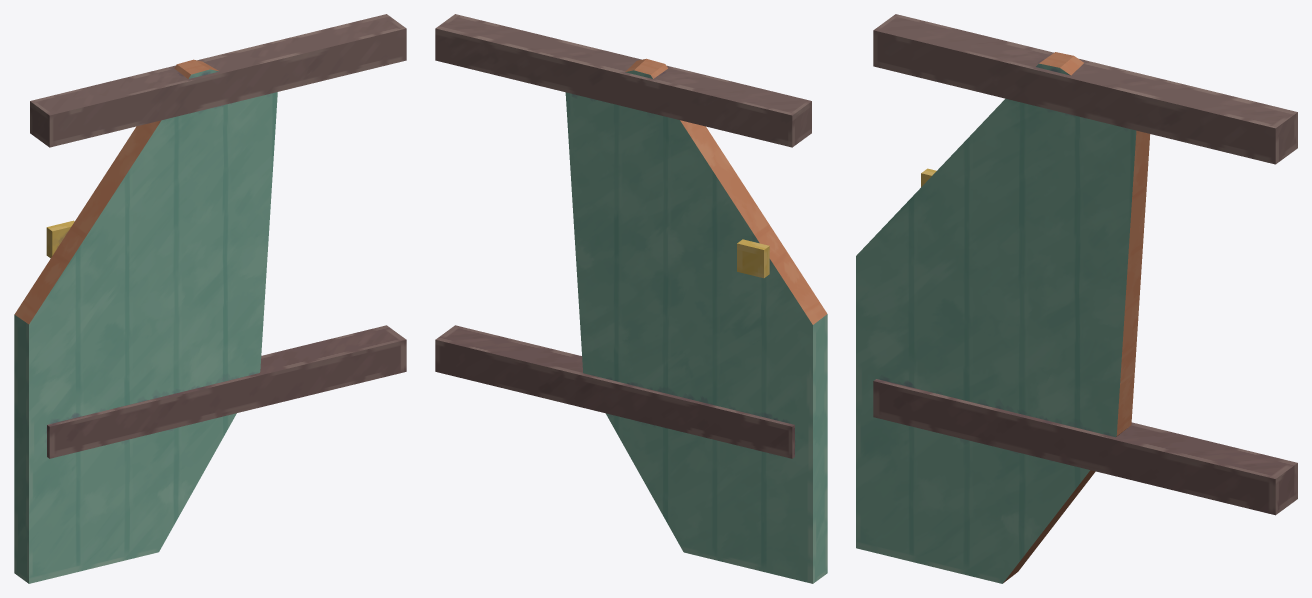
File: door2_teal_s05.fbx
The picture shows the model from 3 angles, left to right: view 1: azimuth 30°, elevation 25°; view 2: azimuth 150°, elevation 25°; view 3: azimuth 330°, elevation 25°; orthographic projection. The views are drawn at different scales.
Visible parts, largest first — view 1: door2_teal_s05; view 2: door2_teal_s05; view 3: door2_teal_s05.
Boxes of the visible parts, x1,y1,x2,y2 form: door2_teal_s05: (14, 14, 406, 583); door2_teal_s05: (435, 14, 827, 583); door2_teal_s05: (856, 14, 1297, 583).
Size of the model in its own units: 4.16 by 4.99 by 0.49.
